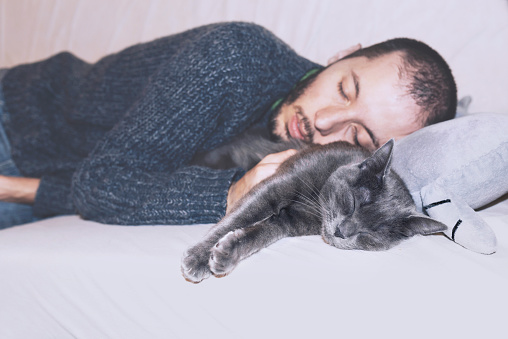deitado: (0, 18, 438, 269)
